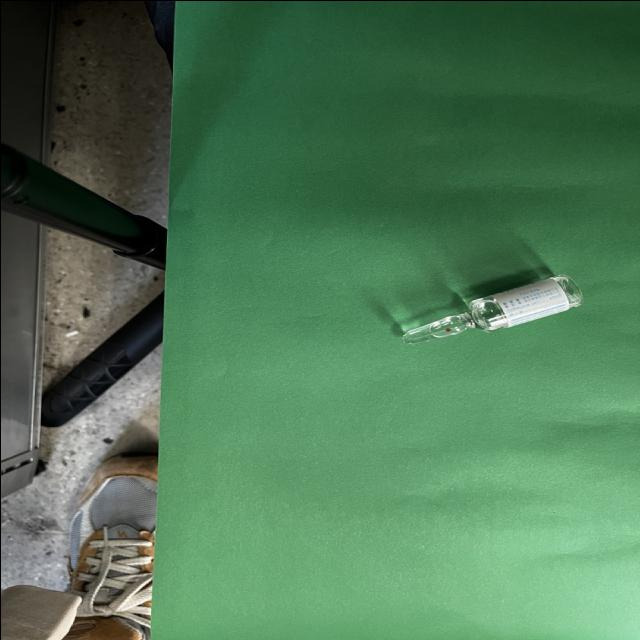Ampoules: (401, 273, 583, 343)
